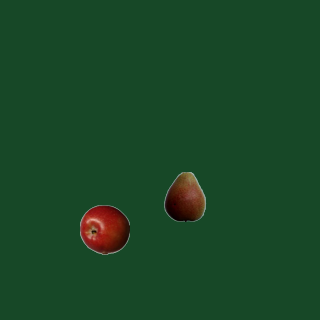Apple Braeburn: (79, 204, 129, 254)
Pear Forelle: (159, 171, 209, 221)
